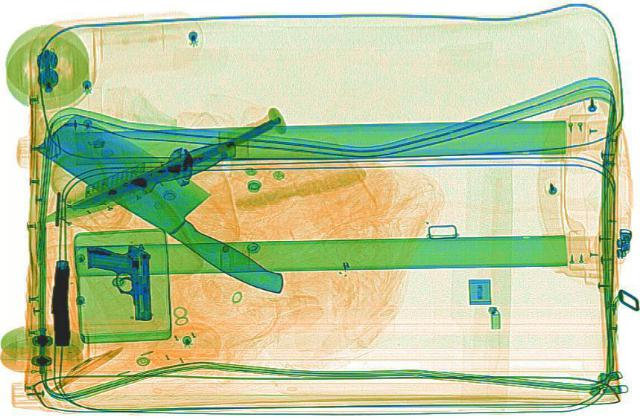Gun: (86, 241, 152, 320), (51, 258, 70, 345)
Knife: (19, 110, 328, 296), (25, 136, 247, 230), (66, 115, 282, 211)
